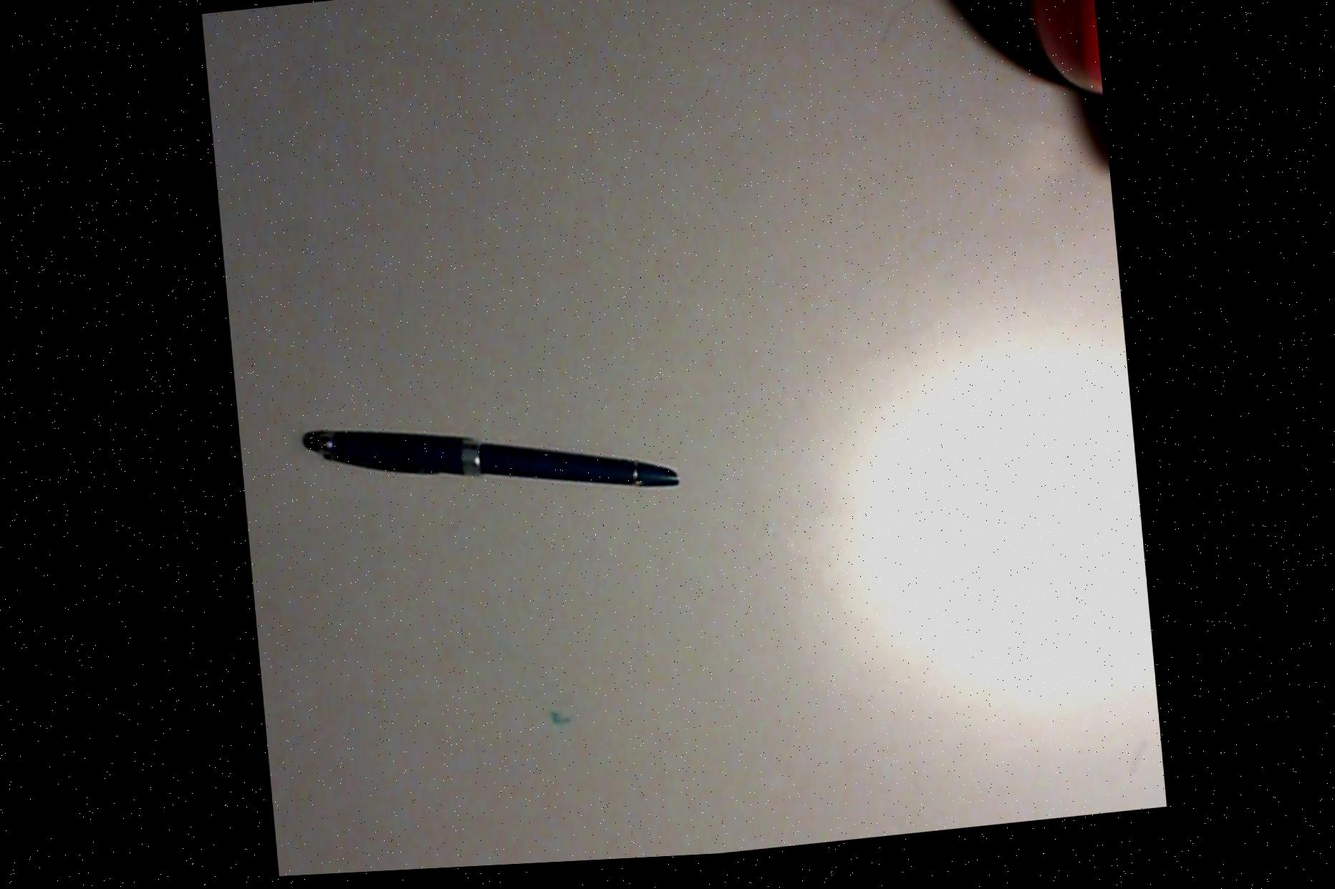pen-pencil: (302, 429, 678, 487)
